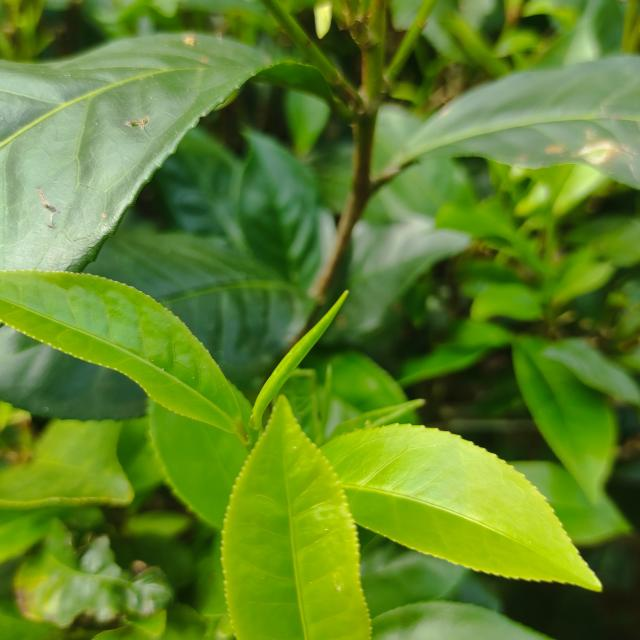unopened_leaf: (235, 280, 358, 450)
